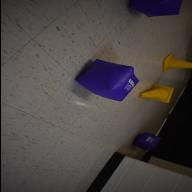cone: (137, 84, 173, 103), (162, 54, 192, 72)
cube: (74, 59, 140, 101), (128, 0, 183, 18), (132, 132, 160, 150)
